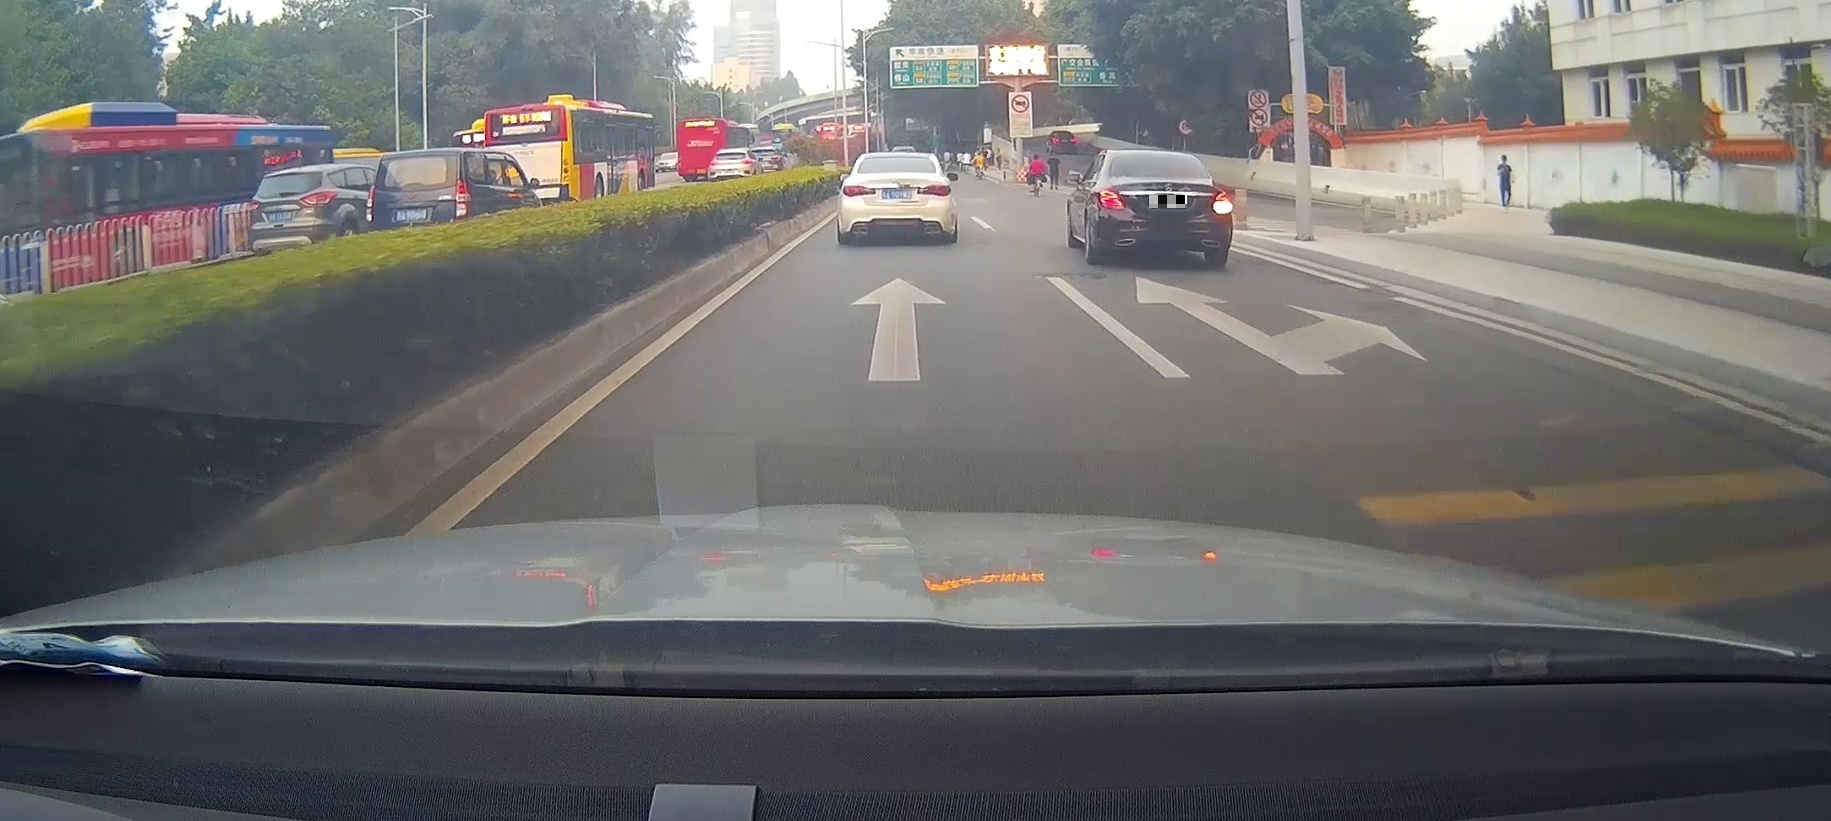L_light: (1096, 188, 1125, 210), (842, 185, 877, 199), (365, 185, 374, 224), (249, 199, 262, 213), (709, 161, 715, 166)
R_light: (453, 180, 469, 218), (300, 190, 337, 206), (1212, 190, 1232, 214), (917, 185, 952, 197), (743, 159, 753, 163)
T_light: (402, 183, 424, 188), (887, 158, 905, 162), (277, 174, 297, 178), (1144, 155, 1164, 159), (727, 153, 736, 155)
day-no: (364, 148, 471, 252), (838, 152, 956, 245), (248, 166, 339, 260), (706, 148, 753, 185)
day-right: (1093, 151, 1233, 267)
plate_1: (1149, 195, 1188, 208)
